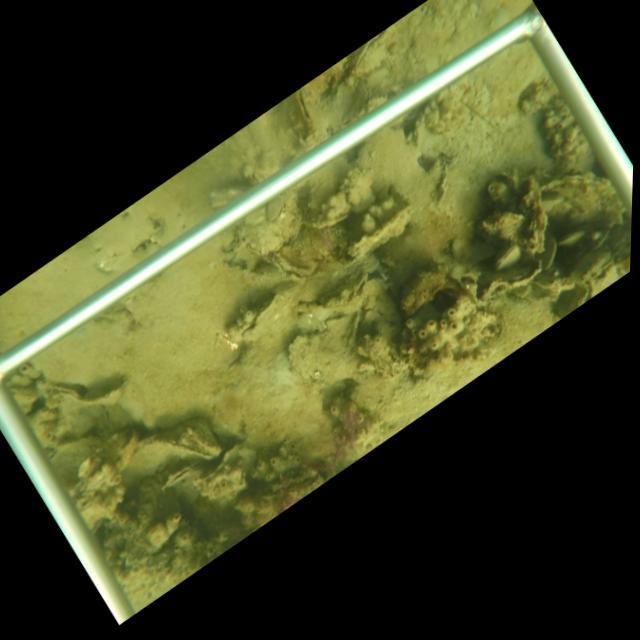Oyster-Closed: (407, 72, 494, 158), (238, 275, 313, 340), (544, 170, 626, 227), (136, 417, 222, 463), (345, 204, 415, 260), (344, 25, 394, 80), (524, 171, 550, 257), (234, 222, 285, 260), (268, 251, 318, 283), (292, 84, 321, 134), (163, 461, 207, 493), (435, 156, 454, 207), (494, 245, 524, 269), (558, 228, 590, 249), (265, 201, 286, 223)
Oyster-Indeterminate: (286, 307, 364, 384)
Oyster-Open: (575, 277, 596, 306)
